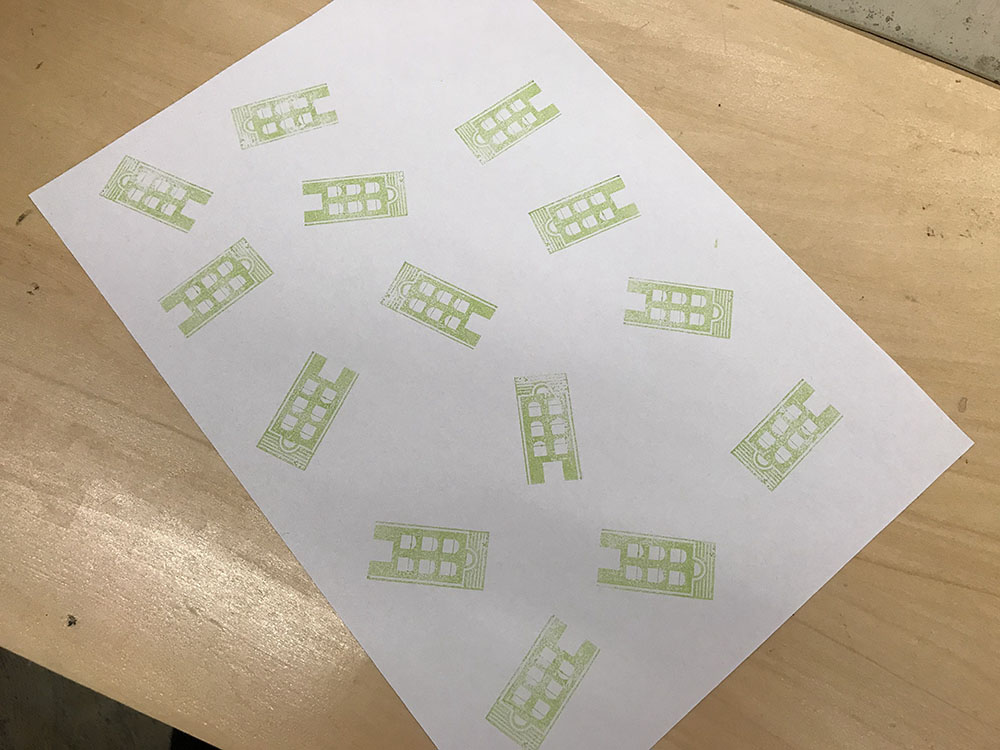build: (474, 612, 607, 750), (717, 367, 850, 502), (573, 517, 749, 612), (251, 344, 362, 483), (356, 509, 508, 608), (362, 256, 505, 355), (436, 66, 569, 169), (69, 240, 201, 343), (516, 172, 657, 258), (90, 154, 223, 241), (504, 368, 595, 494), (609, 269, 748, 351), (212, 80, 360, 155), (290, 165, 420, 236)
